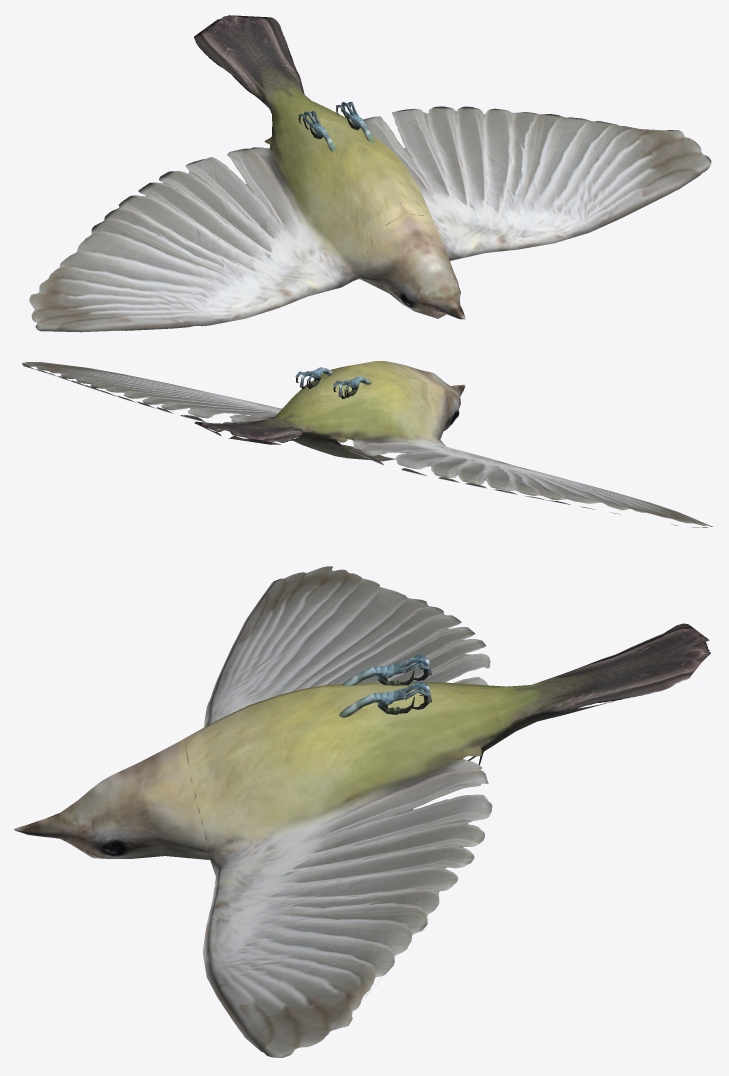
The picture shows the model from 3 angles, top to bottom: view 1: azimuth 30°, elevation 25°; view 2: azimuth 150°, elevation 25°; view 3: azimuth 270°, elevation 25°; orthographic projection. The views are drawn at different scales.
Parts seen in each view (by area): view 1: Object_35; view 2: Object_35; view 3: Object_35.
Boxes of the visible parts, x1,y1,x2,y2 form: Object_35: (29, 15, 711, 332); Object_35: (22, 361, 712, 527); Object_35: (14, 566, 710, 1057).
Bounding box in the file's own units: 3.68 × 0.7748 × 2.27.
1 material, 1 textured.
